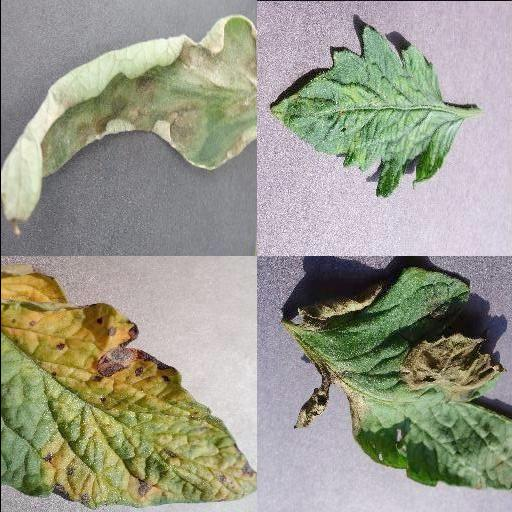Early Blight: (0, 270, 256, 508)
Late Blight: (0, 16, 256, 236), (284, 266, 512, 492)
Mosaic Virus: (267, 25, 463, 199)
